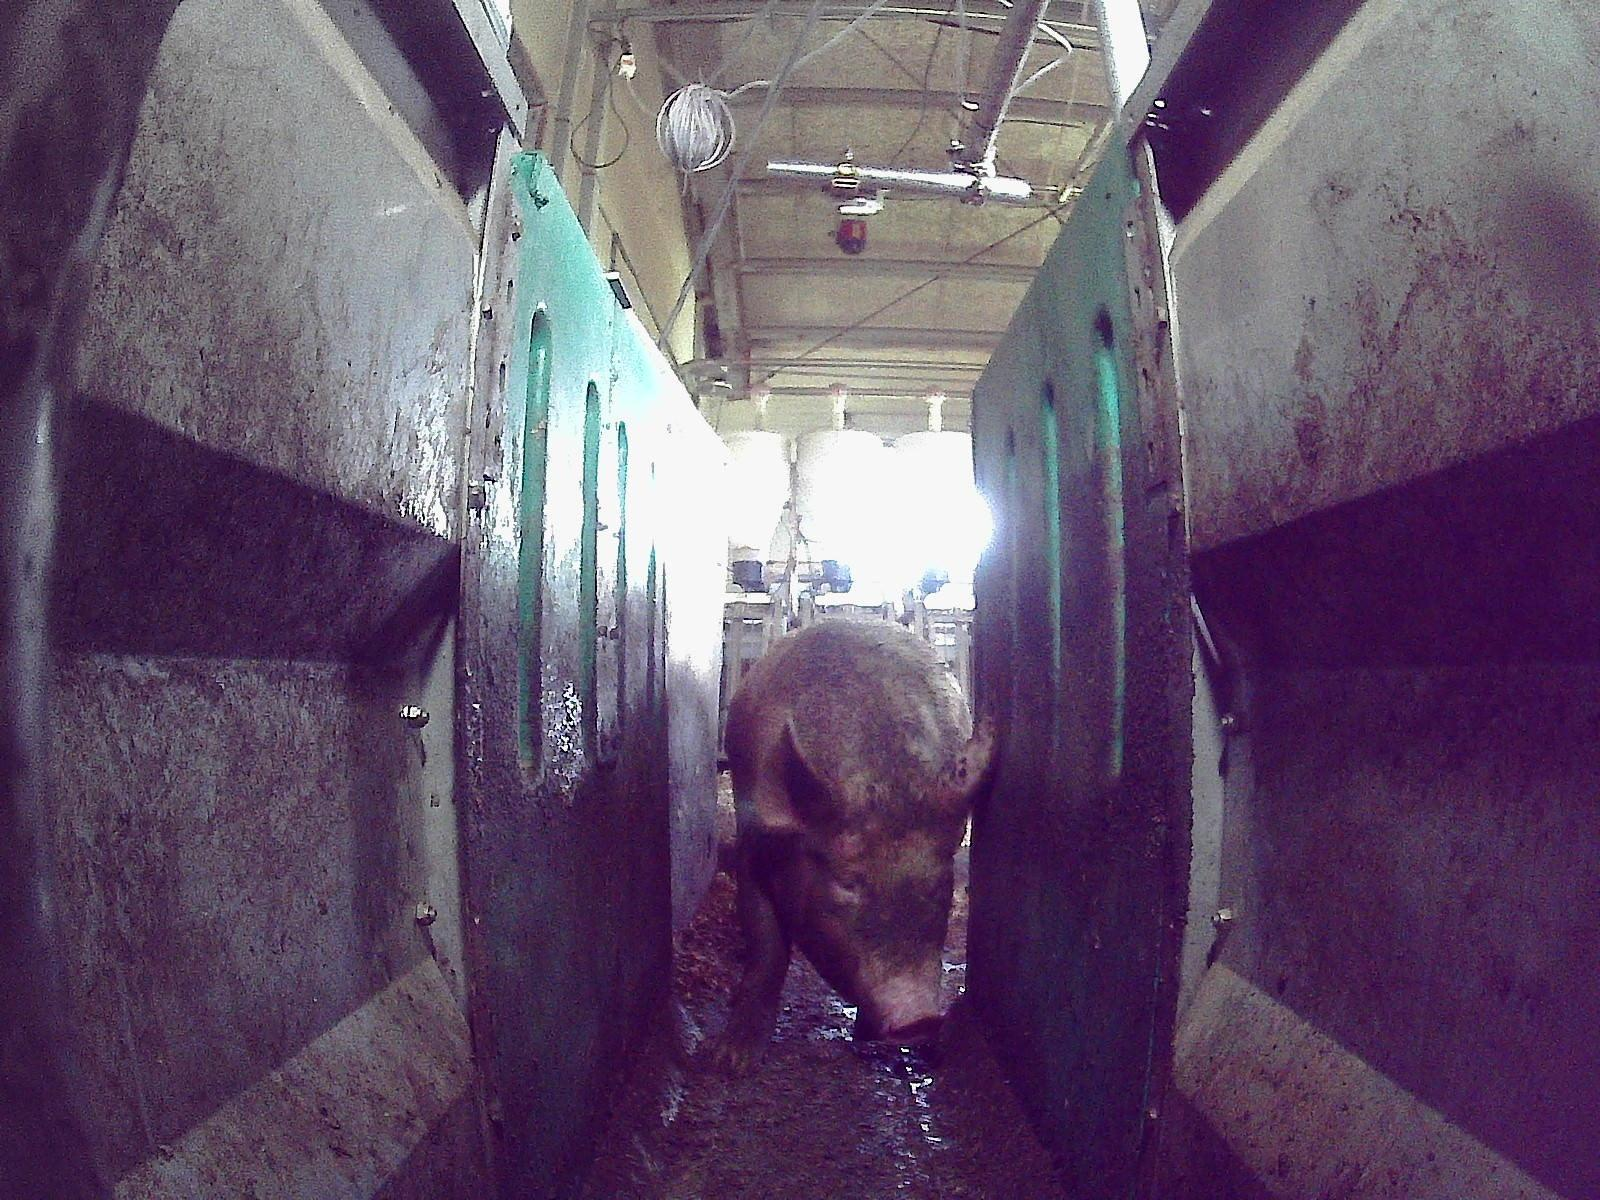Face: (797, 792, 954, 1044)
